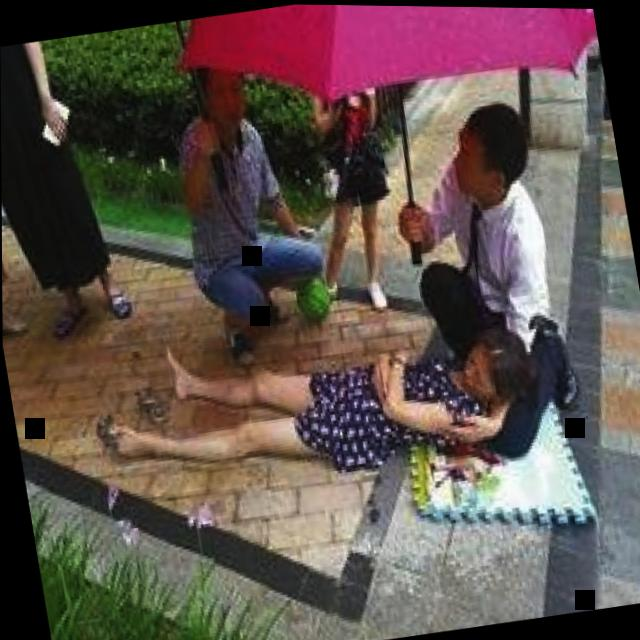Fall-Detected: (64, 278, 561, 514)
